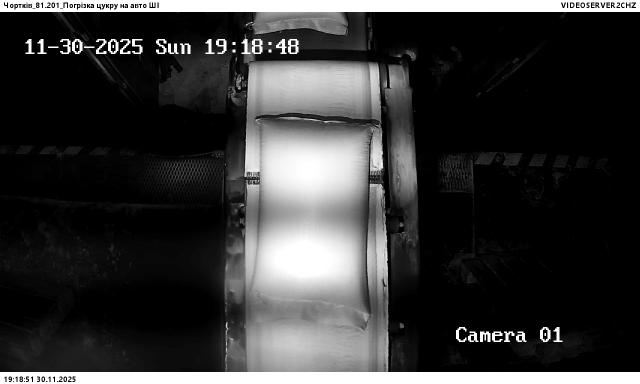bag: (250, 117, 379, 315)
